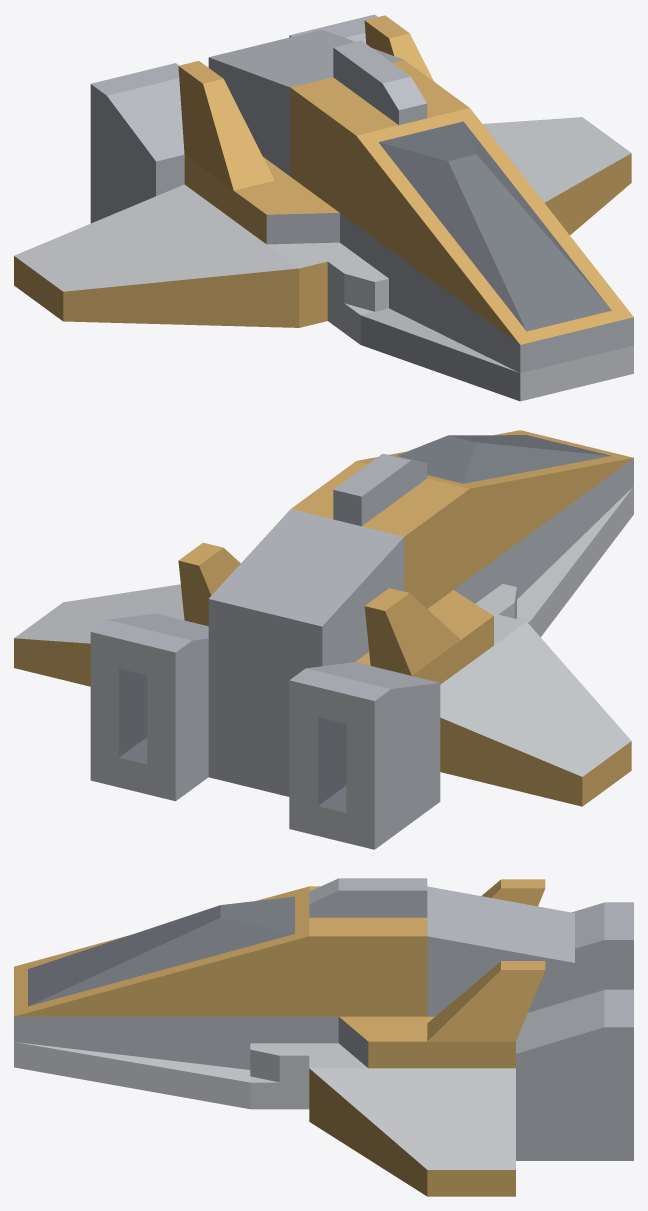
The model's file is craft_speederA.glb.
The picture shows the model from 3 angles, top to bottom: view 1: azimuth 30°, elevation 25°; view 2: azimuth 150°, elevation 25°; view 3: azimuth 270°, elevation 25°; orthographic projection. The views are drawn at different scales.
Visible parts, largest first — view 1: craft_speederA; view 2: craft_speederA; view 3: craft_speederA.
Part boxes in pixels (bbox=[...]): craft_speederA: bbox=[14, 14, 633, 401]; craft_speederA: bbox=[14, 430, 633, 849]; craft_speederA: bbox=[14, 878, 633, 1196].
Bounding box in the file's own units: 0.9524 × 0.3809 × 1.
